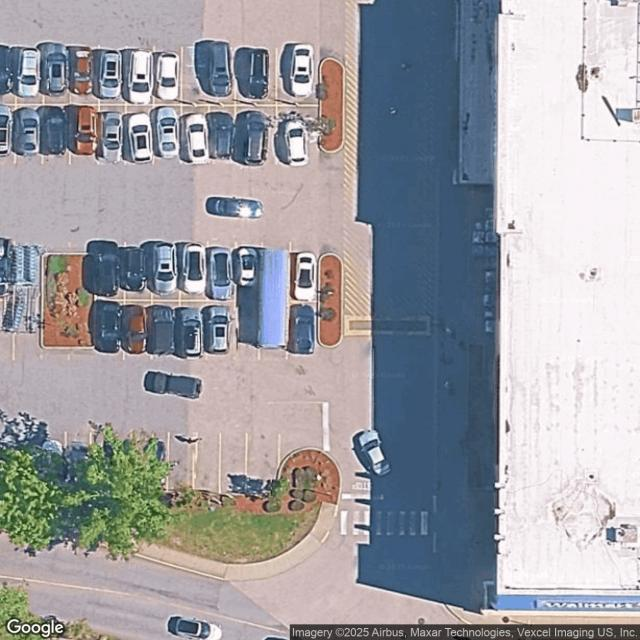car: (94, 241, 120, 297), (242, 109, 267, 167), (209, 42, 234, 98), (153, 240, 178, 296), (178, 306, 204, 358), (292, 43, 316, 99), (282, 119, 310, 167), (208, 246, 232, 302), (129, 48, 152, 106), (155, 51, 181, 101), (97, 46, 121, 100), (97, 301, 121, 354), (71, 44, 95, 96), (129, 111, 153, 163), (207, 305, 232, 354), (45, 43, 68, 96), (75, 105, 98, 157), (292, 303, 315, 355), (184, 242, 206, 296), (123, 244, 147, 293), (187, 112, 210, 162), (18, 46, 40, 98), (102, 110, 123, 164), (152, 305, 175, 354), (126, 304, 149, 353), (294, 251, 316, 302), (248, 48, 270, 98), (158, 108, 180, 158), (18, 106, 40, 154), (44, 106, 65, 156), (213, 111, 234, 158), (237, 244, 259, 288), (69, 440, 88, 486), (41, 442, 62, 482), (1, 45, 12, 97), (0, 107, 12, 153)
objects: (41, 253, 96, 350), (1, 232, 45, 334), (260, 251, 288, 347), (320, 58, 343, 153), (319, 254, 342, 347)
stall: (275, 106, 318, 164), (278, 48, 320, 106), (235, 105, 277, 163), (236, 48, 276, 105), (247, 434, 276, 492), (125, 47, 153, 105), (99, 47, 127, 105), (70, 104, 98, 162), (207, 243, 235, 301), (152, 301, 180, 359), (96, 301, 124, 359), (123, 301, 151, 359), (64, 431, 92, 489), (71, 47, 99, 104), (153, 105, 181, 162), (208, 106, 236, 163), (208, 48, 236, 105), (152, 242, 180, 299), (207, 300, 235, 357), (167, 432, 195, 489), (289, 302, 317, 359), (290, 245, 318, 302), (181, 105, 208, 163), (43, 104, 70, 162), (99, 105, 126, 163), (126, 104, 153, 162), (233, 243, 260, 301), (124, 243, 151, 301), (181, 300, 208, 358), (38, 432, 65, 490), (154, 48, 181, 105), (182, 48, 209, 105), (44, 46, 71, 103), (16, 46, 43, 103), (14, 104, 41, 161), (97, 243, 124, 300), (220, 433, 247, 490), (138, 432, 165, 489), (180, 243, 207, 298), (194, 433, 220, 490), (235, 302, 259, 358), (0, 45, 15, 103), (0, 105, 15, 160)
